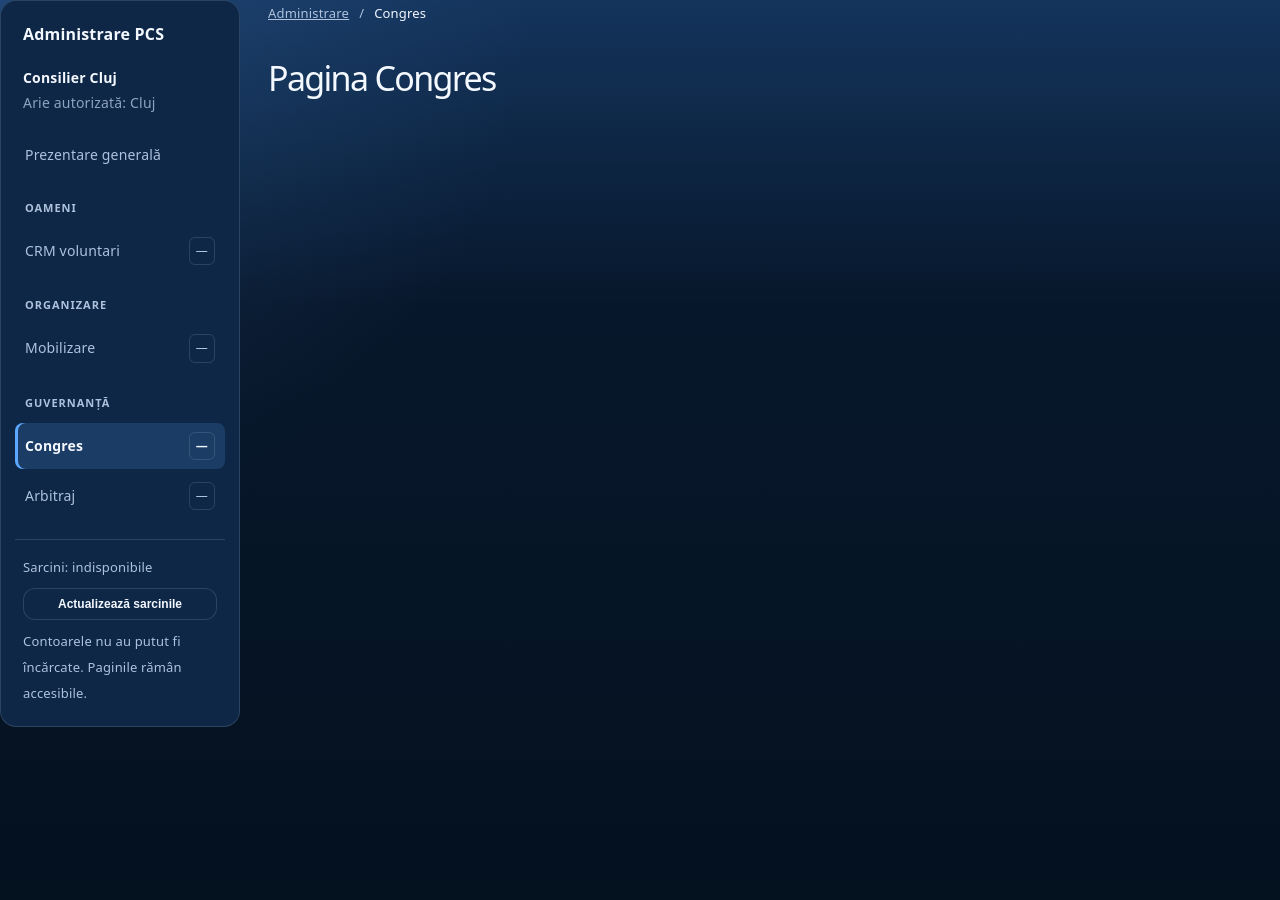
Test case: shared administrative shell › shows unavailable rather than zero on count failure, then supports retry
Expected: the message shows "Contoarele nu au putut fi încărcate", [23,632,182,702]
Expected: the heading "Pagina Congres" is shown, [268,55,496,101]
Click the button "Actualizează sarcinile" at [120, 604], box [23,588,217,620]
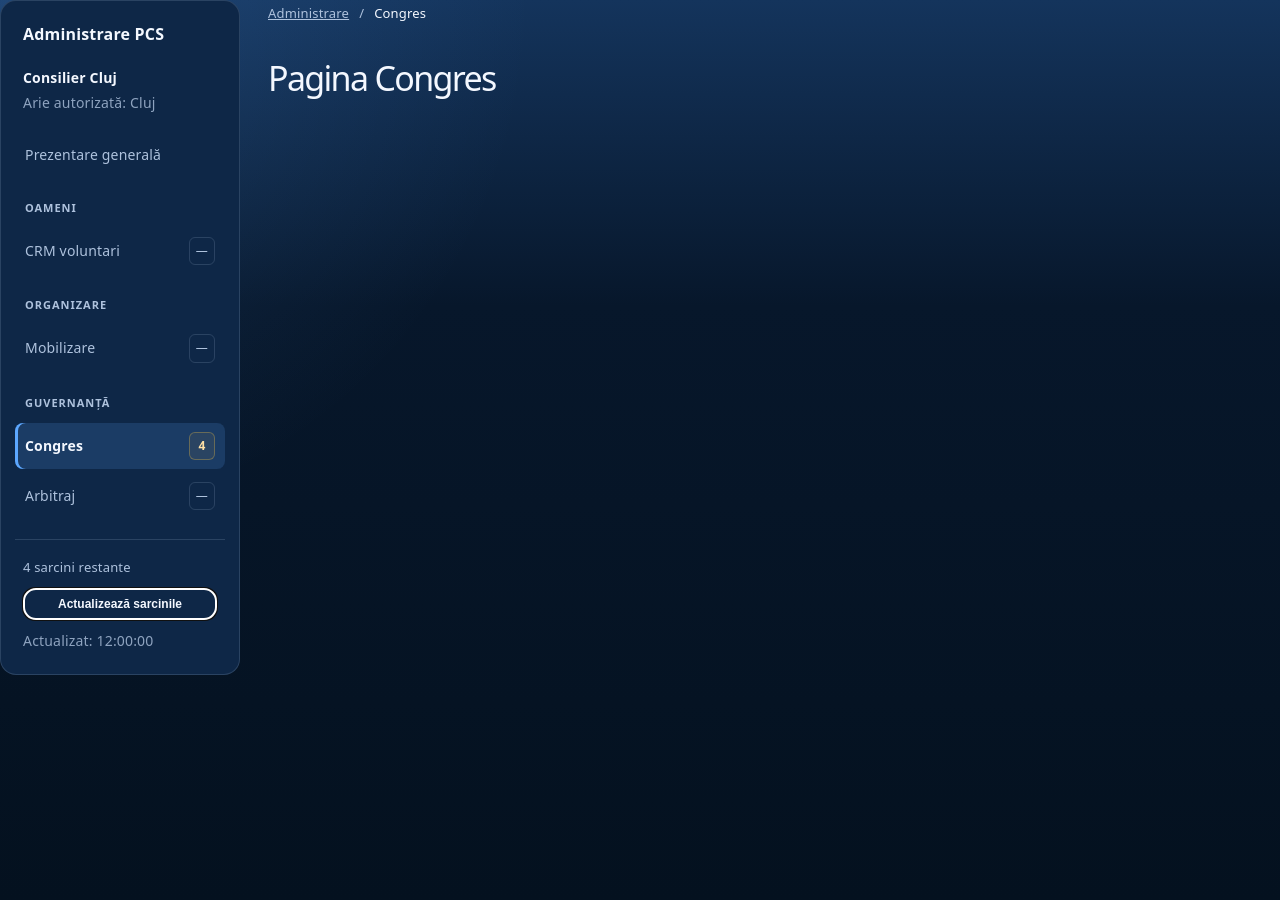
Now the text "4 sarcini restante" is shown, box [23,558,131,576]
